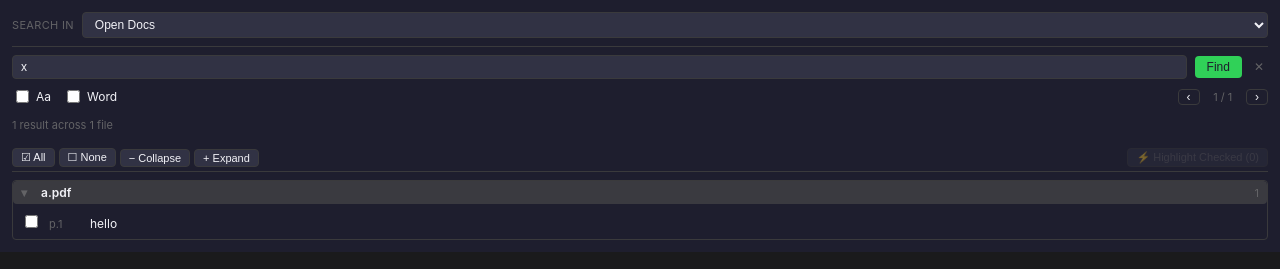
SearchPanel — grouped result rendering › clicking a group header collapses it, hiding its results
This screenshot has width=1280, height=269.
Expected: the number of options with class "search-result" is 1, x1=25 y1=215 x2=117 y2=231
What coordinates should you click on to do the following:
click the button with test id "search-group-d1"
I would click on:
 (56, 192)
Its box is x1=13 y1=181 x2=1267 y2=204.
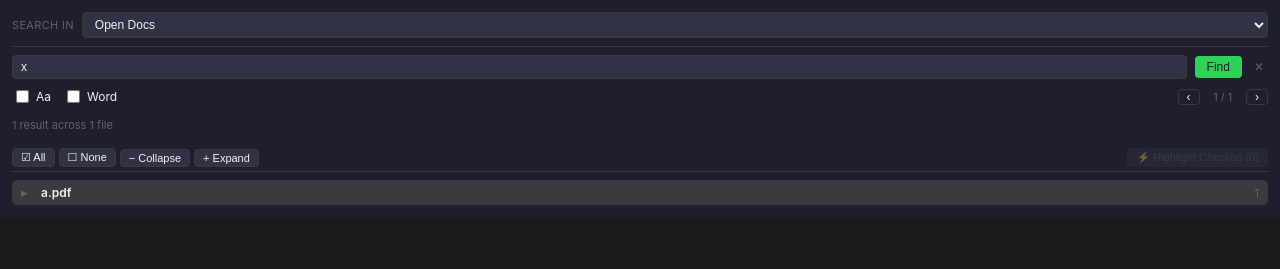
Now no options with class "search-result" are shown
What coordinates should you click on to do the following:
click the button with test id "search-group-d1"
I would click on:
 (56, 192)
Its box is x1=13 y1=181 x2=1267 y2=204.
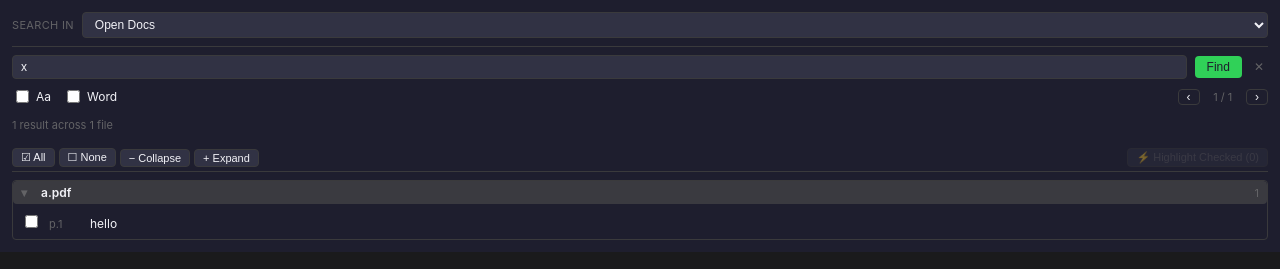
Now the number of options with class "search-result" is 1, box x1=25 y1=215 x2=117 y2=231
